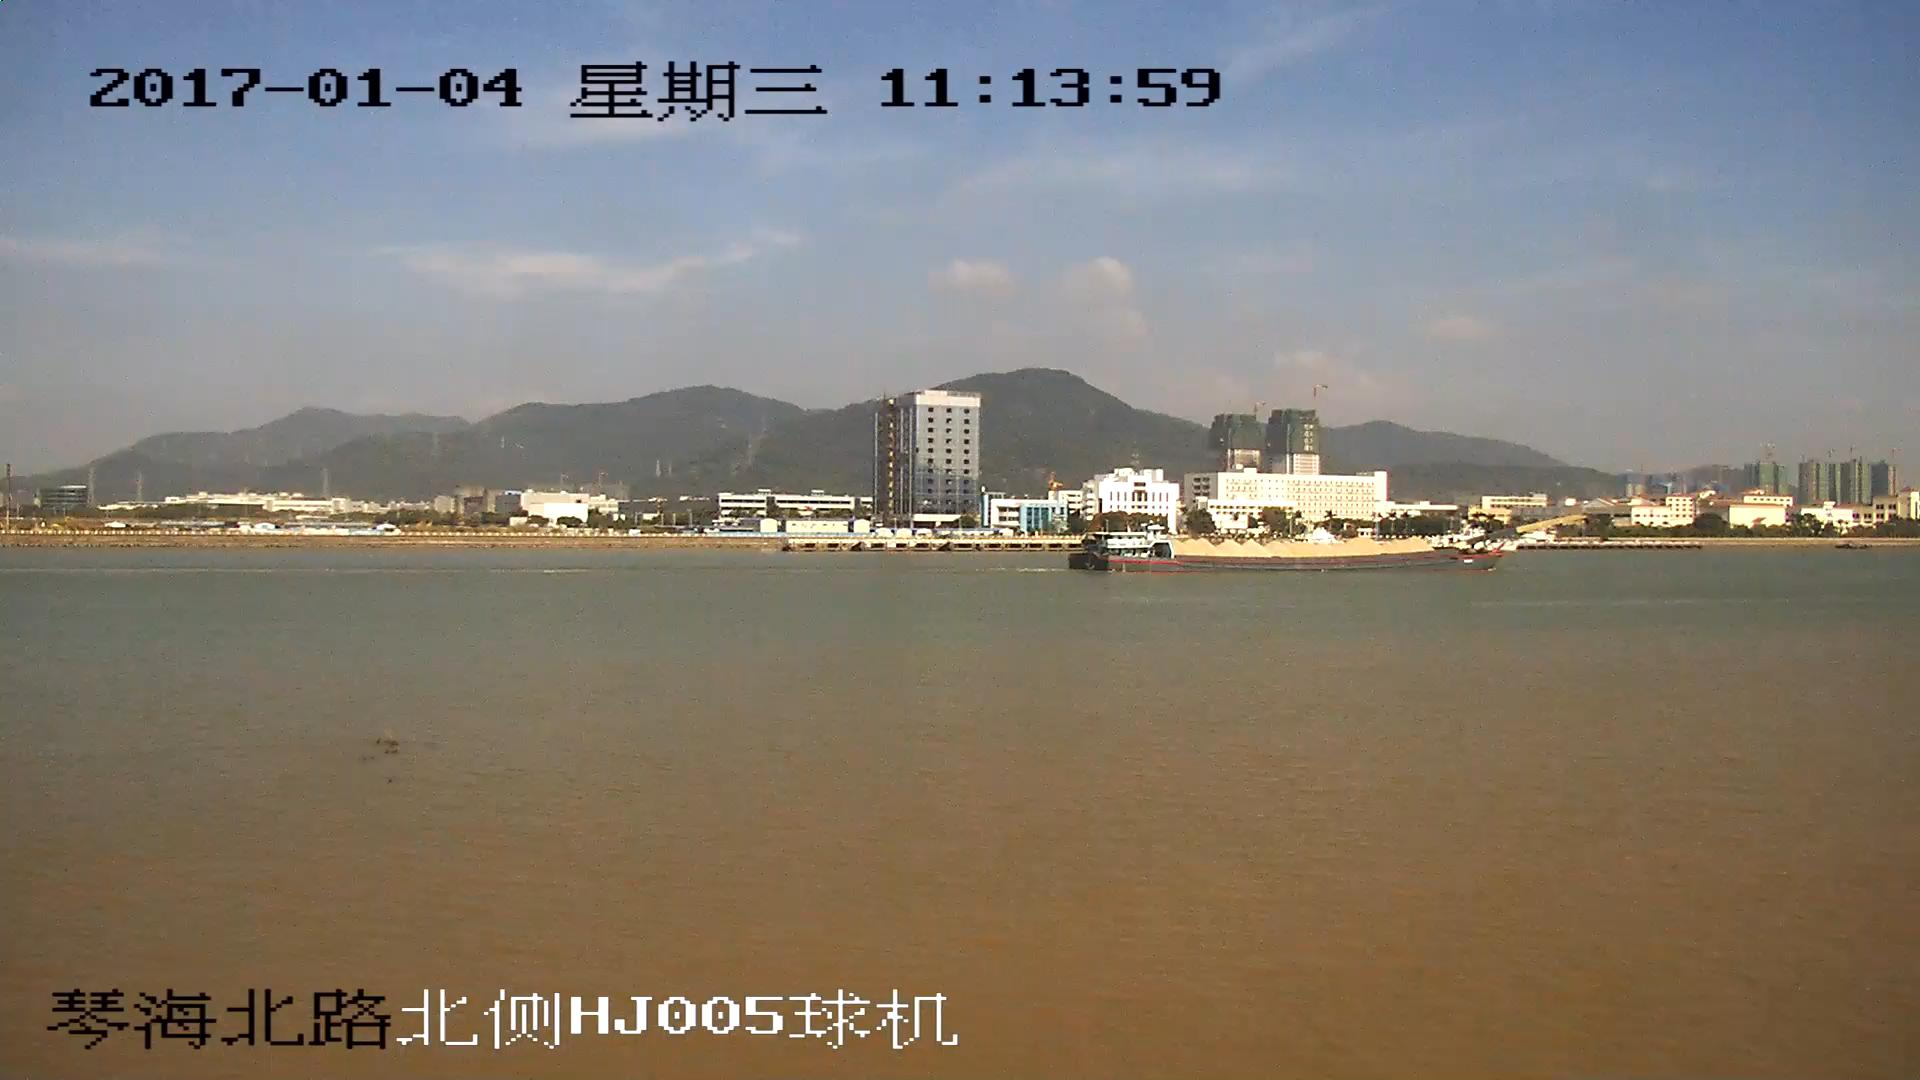ore carrier: (1075, 514, 1591, 571)
